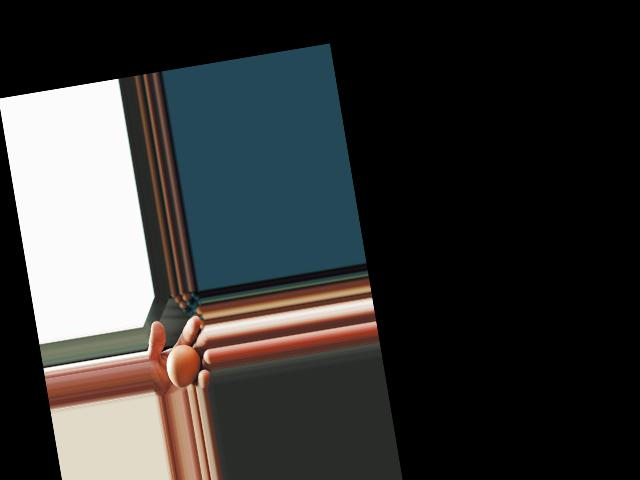egg: (163, 342, 205, 390)
